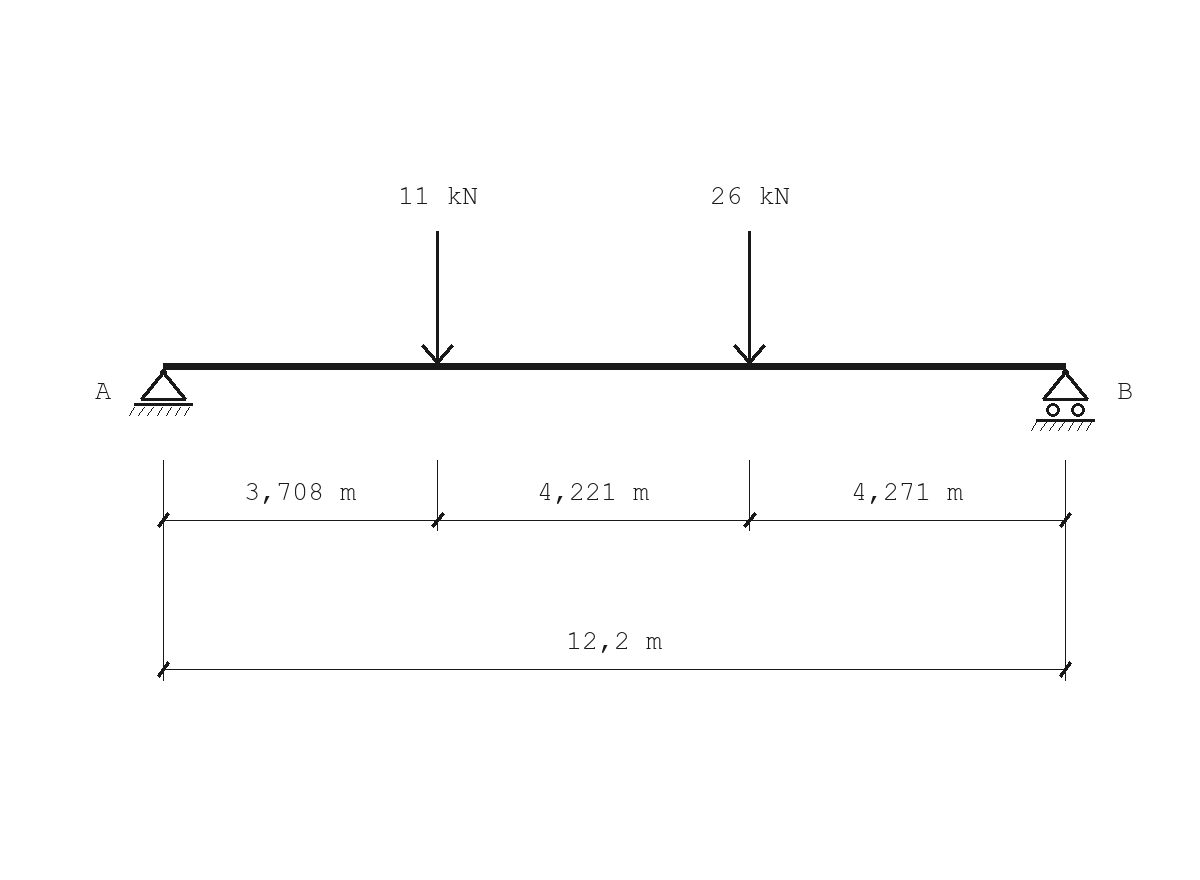pin_support: (129, 369, 193, 416)
point_load: (421, 231, 454, 364), (733, 231, 766, 364)
roller_support: (1031, 369, 1095, 431)
